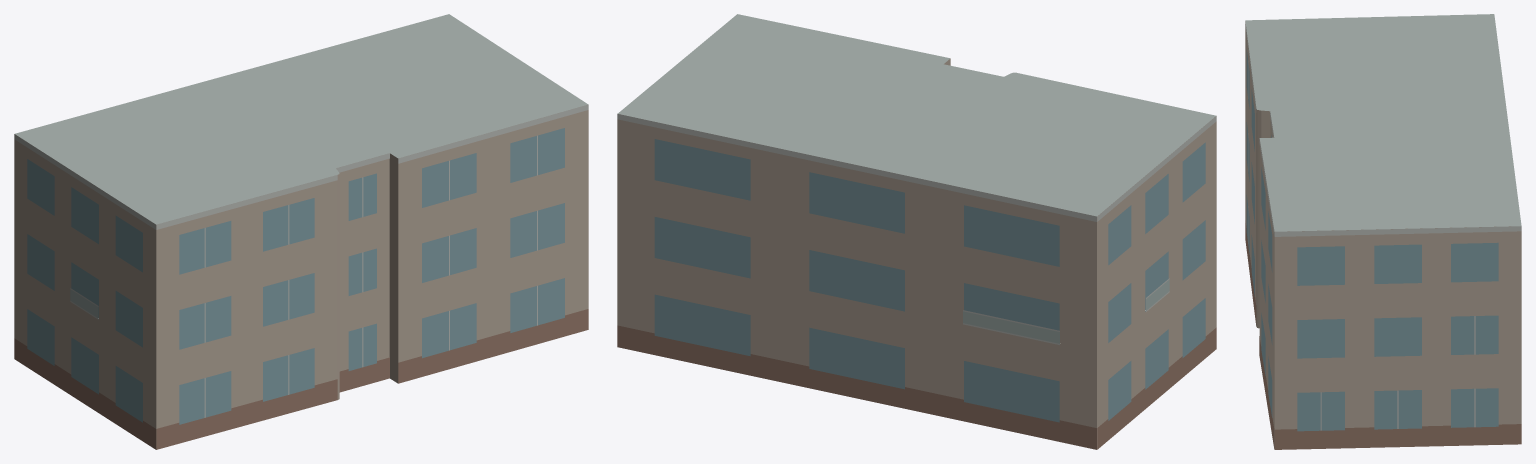
File: survey-upis-32917391.glb
The picture shows the model from 3 angles, left to right: view 1: azimuth 30°, elevation 25°; view 2: azimuth 150°, elevation 25°; view 3: azimuth 270°, elevation 25°; orthographic projection. The views are drawn at different scales.
Parts seen in each view (by area): view 1: survey-upis-32917391.tmp; view 2: survey-upis-32917391.tmp; view 3: survey-upis-32917391.tmp.
Part boxes in pixels (left/top/right/bottom): survey-upis-32917391.tmp: left=14, top=14, right=588, bottom=449; survey-upis-32917391.tmp: left=617, top=14, right=1216, bottom=449; survey-upis-32917391.tmp: left=1245, top=14, right=1521, bottom=449.
Bounding box in the file's own units: 21.84 × 10.2 × 11.72.
